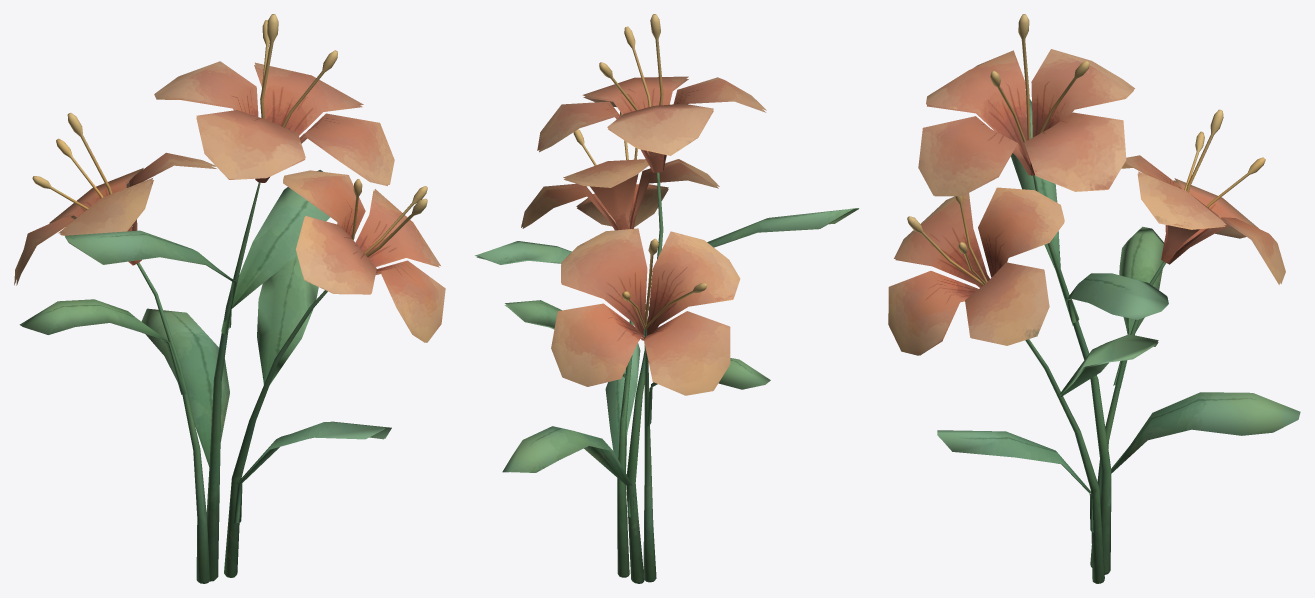
File: pine_flower_merged.fbx
The picture shows the model from 3 angles, left to right: view 1: azimuth 30°, elevation 25°; view 2: azimuth 150°, elevation 25°; view 3: azimuth 270°, elevation 25°; orthographic projection. The views are drawn at different scales.
Parts seen in each view (by area): view 1: 1 pine flower; view 2: 1 pine flower; view 3: 1 pine flower.
Boxes of the visible parts, x1=… form: 1 pine flower: x1=14, y1=14, x2=445, y2=583; 1 pine flower: x1=475, y1=14, x2=858, y2=583; 1 pine flower: x1=888, y1=14, x2=1300, y2=583.
Size of the model in its own units: 17.55 by 27.38 by 17.94.
